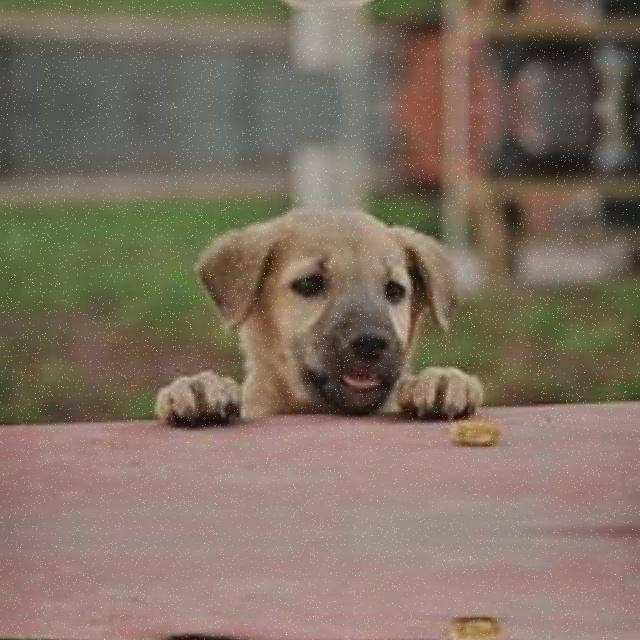dog: (174, 170, 462, 452), (174, 0, 463, 45), (174, 612, 463, 640)
